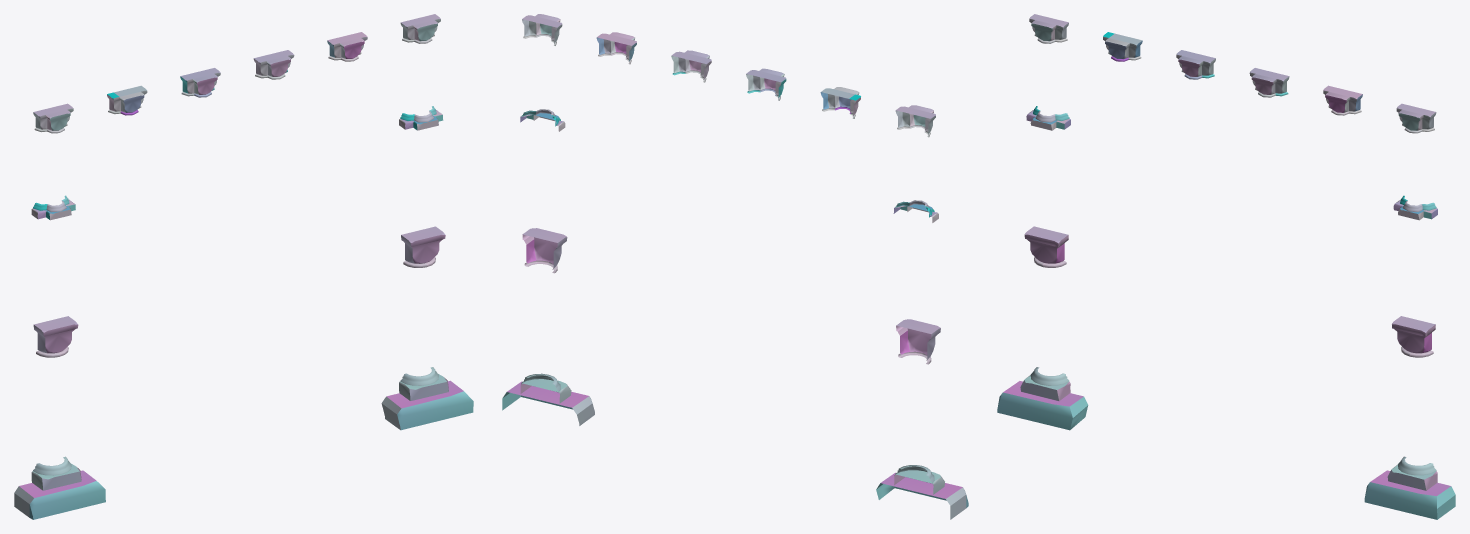
3 renders of one model, left to right at view 1: azimuth 30°, elevation 25°; view 2: azimuth 150°, elevation 25°; view 3: azimuth 330°, elevation 25°, orthographic.
Visible parts, largest first — view 1: SM_Dandelion_03_LOD0; view 2: SM_Dandelion_03_LOD0; view 3: SM_Dandelion_03_LOD0.
Boxes of the visible parts, x1=… form: SM_Dandelion_03_LOD0: x1=14, y1=14, x2=473, y2=519; SM_Dandelion_03_LOD0: x1=502, y1=14, x2=968, y2=519; SM_Dandelion_03_LOD0: x1=997, y1=14, x2=1455, y2=519.
Bounding box in the file's own units: 6 × 5.07 × 0.4463.
